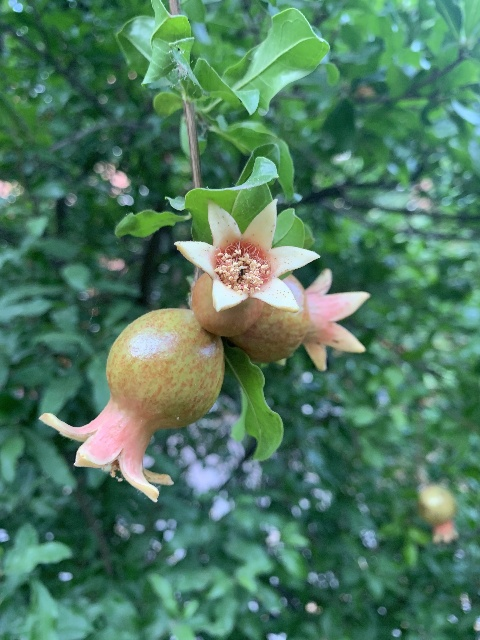early-fruit: (38, 307, 224, 503), (174, 197, 316, 334), (230, 266, 370, 370)
mid-growth: (417, 484, 459, 543)
